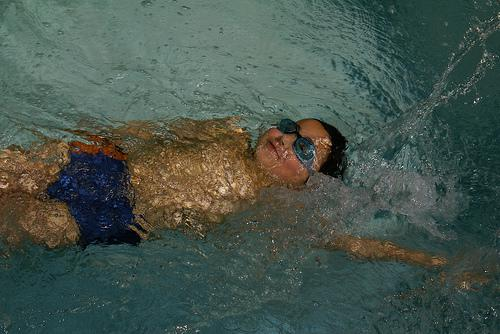swimmer: (0, 106, 367, 276)
